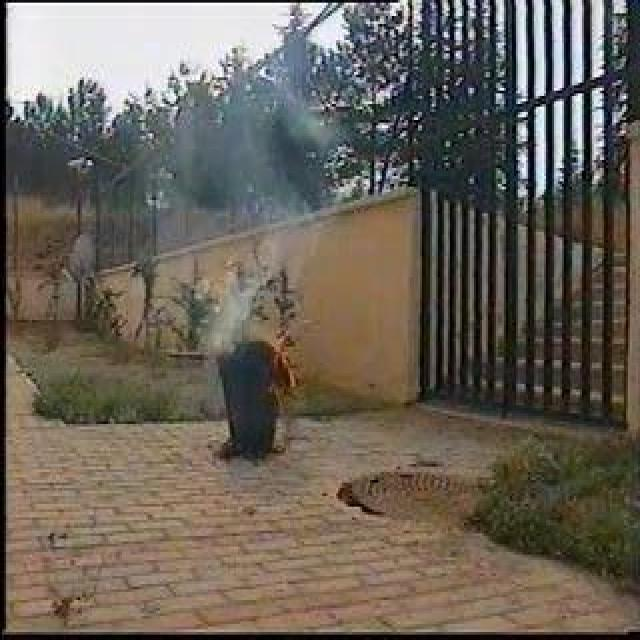fire: (272, 335, 302, 396)
smoke: (209, 164, 264, 344)
